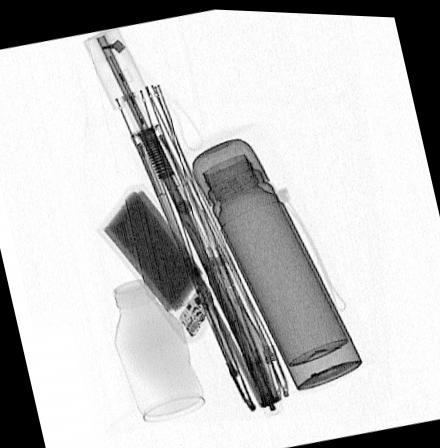Powerbank: (95, 185, 225, 341)
